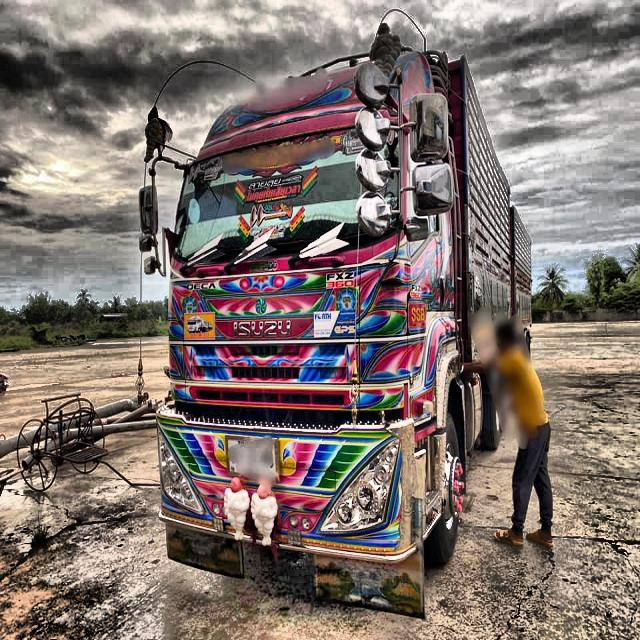trailer: (158, 41, 530, 618)
